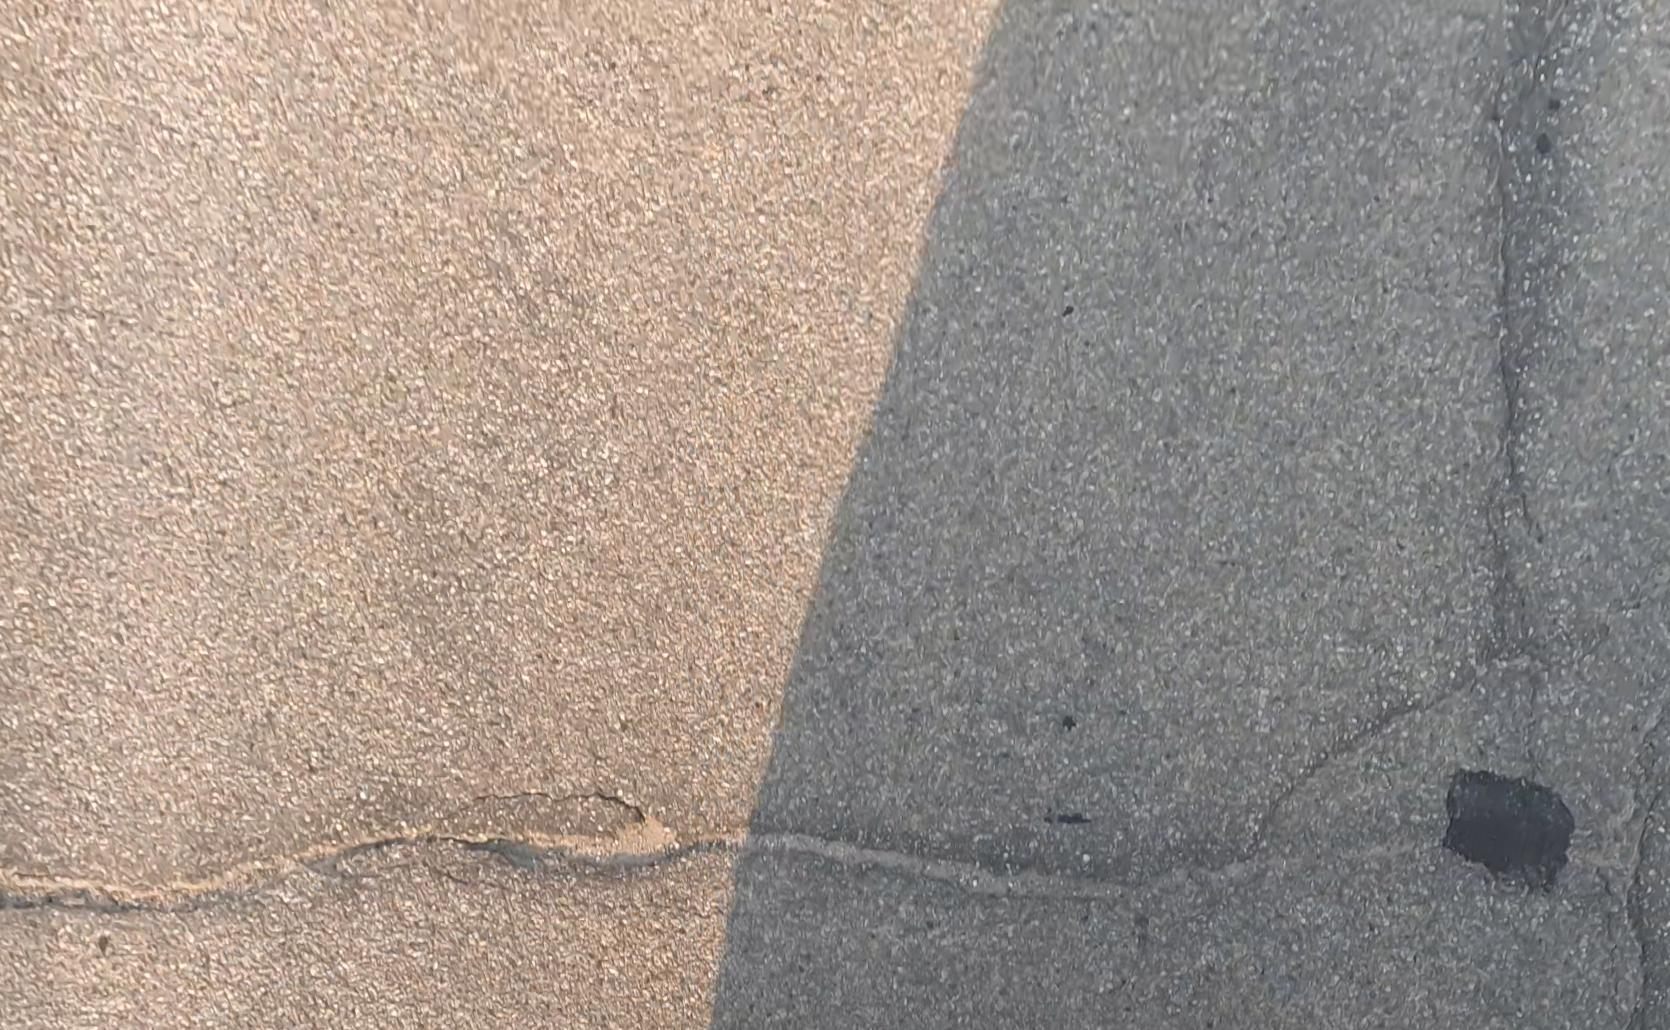pothole_patch_good: (1445, 772, 1578, 888)
